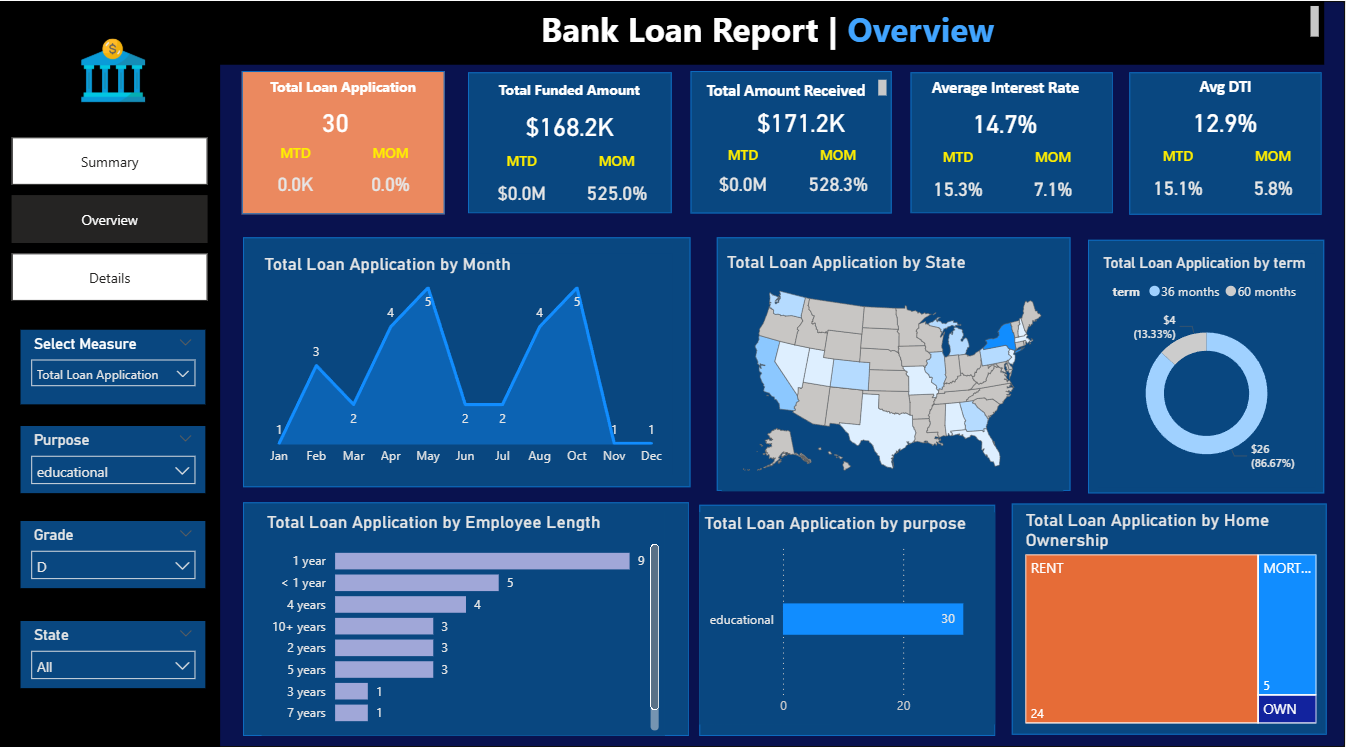

Layout of this report page (visuals, bound fields, positions):
{"tool":"powerbi","page":{"name":"Overview","canvas":[1300,720],"ordinal":1},"visuals":[{"type":"card","fields":{"Values":["bank_loan_data.Average DTI"]},"box":[1103.3,94.1,160.5,45.8],"z":0,"group":"g5"},{"type":"card","fields":{"Values":["bank_loan_data.Avg Interest Rate"]},"box":[891,95.3,160.5,45.8],"z":0,"group":"g4"},{"type":"card","fields":{"Values":["bank_loan_data.Total Funded Amount"]},"box":[471.5,97,160.5,49.1],"z":0,"group":"g2"},{"type":"card","fields":{"Values":["bank_loan_data.Total Amount Received"]},"box":[694.5,97.1,160.3,42.1],"z":0,"group":"g3"},{"type":"card","fields":{"Values":["bank_loan_data.Total Loan Application"]},"box":[242.1,98.7,166.5,37.4],"z":0,"group":"g1"},{"type":"shape","box":[236.5,228,431.9,241.3],"z":0},{"type":"shape","box":[0,0,1280,61.5],"z":1000},{"type":"card","title":"MTD","fields":{"Values":["bank_loan_data.MTD Loan Application"]},"box":[241,137.3,91.7,61.5],"z":1000,"group":"g1"},{"type":"card","title":"MTD","fields":{"Values":["bank_loan_data.MTD Total Amount Received"]},"box":[673.2,138.6,91.7,60.3],"z":1000,"group":"g3"},{"type":"card","title":"MTD","fields":{"Values":["bank_loan_data.MTD Average DTI"]},"box":[1093,140.2,91.7,64.9],"z":1000,"group":"g5"},{"type":"card","title":"MTD","fields":{"Values":["bank_loan_data.MTD Avg Int Rate"]},"box":[880.7,141.4,91.7,64.9],"z":1000,"group":"g4"},{"type":"card","title":"MTD","fields":{"Values":["bank_loan_data.MTD Funded Application"]},"box":[459.6,145.1,91.7,66.1],"z":1000,"group":"g2"},{"type":"shape","box":[235,67.3,195.8,138.3],"z":2000},{"type":"textbox","box":[1087,67.6,195.4,29.3],"z":2000,"group":"g5"},{"type":"textbox","box":[235,68.5,195.4,27.7],"z":2000,"group":"g1"},{"type":"textbox","box":[874.7,68.8,195.4,29.3],"z":2000,"group":"g4"},{"type":"textbox","box":[453.6,71.2,195.4,29.8],"z":2000,"group":"g2"},{"type":"textbox","box":[667.2,71.2,195.4,27.2],"z":2000,"group":"g3"},{"type":"shape","box":[0,0,214.7,720.2],"z":3000},{"type":"card","title":"MOM","fields":{"Values":["bank_loan_data.MOM Loan Applications"]},"box":[332.7,137.3,91.7,61.5],"z":3000,"group":"g1"},{"type":"card","title":"MOM","fields":{"Values":["bank_loan_data.MOM Total Amount Received"]},"box":[764.9,138.6,91.7,60.3],"z":3000,"group":"g3"},{"type":"card","title":"MOM","fields":{"Values":["bank_loan_data.MOM Average DTI"]},"box":[1184.7,140.2,91.7,64.9],"z":3000,"group":"g5"},{"type":"card","title":"MOM","fields":{"Values":["bank_loan_data.MOM Avg Int Rate"]},"box":[972.4,141.4,91.7,64.9],"z":3000,"group":"g4"},{"type":"card","title":"MOM","fields":{"Values":["bank_loan_data.MOM Total Funded Amount"]},"box":[551.3,145.1,91.7,66.1],"z":3000,"group":"g2"},{"type":"textbox","box":[214.7,0,1065.3,51.9],"z":4000},{"type":"group","id":"g1","title":"Group 1","box":[235,68.5,195.8,131],"z":5000},{"type":"shape","box":[453.6,68.8,196.6,136.3],"z":6000},{"type":"group","id":"g2","title":"Group 1","box":[453.6,71.2,196.6,138.7],"z":7000},{"type":"shape","box":[668.4,67.6,194.2,137.5],"z":8000},{"type":"group","id":"g3","title":"Group 1","box":[667.2,71.2,195.4,126.7],"z":9000},{"type":"shape","box":[880.7,68.8,195.4,136.3],"z":10000},{"type":"group","id":"g4","title":"Group 1","box":[874.7,68.8,195.4,136.3],"z":11000},{"type":"shape","box":[1091.8,68.8,185.8,137.5],"z":12000},{"type":"group","id":"g5","title":"Group 1","box":[1087,67.6,195.4,136.3],"z":13000},{"type":"shape","box":[236.5,483.8,430.7,225.6],"z":14000},{"type":"slicer","fields":{"Values":["bank_loan_data.grade"]},"box":[22,501.8,178.7,64.9],"z":16000},{"type":"slicer","fields":{"Values":["bank_loan_data.address_state"]},"box":[22,598.5,178.7,64.9],"z":17000},{"type":"slicer","fields":{"Values":["bank_loan_data.purpose"]},"box":[21.7,410.2,178.6,65.1],"z":18000},{"type":"image","box":[72.4,31.4,77.2,71.2],"z":19000},{"type":"areaChart","fields":{"Y":["bank_loan_data.Total Loan Application"],"Category":["DateTable.Month"]},"box":[252.1,243.7,398.1,213.5],"z":23000},{"type":"slicer","fields":{"Values":["Select Measure.Select Measure"]},"box":[21.7,317.3,178.6,72.4],"z":24000},{"type":"shape","box":[693.7,228,341.4,244.9],"z":25000},{"type":"shapeMap","fields":{"Category":["bank_loan_data.address_state"],"Value":["bank_loan_data.Total Loan Application"]},"box":[698.5,241.3,329.4,231.6],"z":25001},{"type":"shape","box":[1052,230.4,228,244.9],"z":25002},{"type":"donutChart","fields":{"Category":["bank_loan_data.term"],"Y":["bank_loan_data.Total Loan Application"]},"box":[1061.7,243.7,209.9,225.6],"z":25003},{"type":"barChart","fields":{"Category":["bank_loan_data.emp_length"],"Y":["bank_loan_data.Total Loan Application"]},"box":[254.6,492.2,388.5,217.2],"z":25004},{"type":"shape","box":[676.8,486.2,285.9,223.2],"z":25005},{"type":"barChart","fields":{"Category":["bank_loan_data.purpose"],"Y":["bank_loan_data.Total Loan Application"]},"box":[676.8,493.4,285.9,205.1],"z":25006},{"type":"shape","box":[978.4,485,304,223.2],"z":25007},{"type":"treemap","fields":{"Group":["bank_loan_data.home_ownership"],"Values":["bank_loan_data.Total Loan Application"]},"box":[986.9,491,290.8,211.1],"z":25008},{"type":"pageNavigator","box":[13.3,131.5,189.4,158],"z":25009}]}

Visuals, with their boxes in screenshot pixels (x1, y1, x2, y2), scaled from the page's 1300x720 canvas onto the 1346x747 screenshot:
card - bank_loan_data.Average DTI: 1142,98,1309,145
card - bank_loan_data.Avg Interest Rate: 923,99,1089,146
card - bank_loan_data.Total Funded Amount: 488,101,654,152
card - bank_loan_data.Total Amount Received: 719,101,885,144
card - bank_loan_data.Total Loan Application: 251,102,423,141
shape: 245,237,692,487
shape: 0,0,1325,64
"MTD" card: 250,142,344,206
"MTD" card: 697,144,792,206
"MTD" card: 1132,145,1227,213
"MTD" card: 912,147,1007,214
"MTD" card: 476,151,571,219
shape: 243,70,446,213
textbox: 1125,70,1328,101
textbox: 243,71,446,100
textbox: 906,71,1108,102
textbox: 470,74,672,105
textbox: 691,74,893,102
shape: 0,0,222,746
"MOM" card: 344,142,439,206
"MOM" card: 792,144,887,206
"MOM" card: 1227,145,1322,213
"MOM" card: 1007,147,1102,214
"MOM" card: 571,151,666,219
textbox: 222,0,1325,54
"Group 1" group: 243,71,446,207
shape: 470,71,673,213
"Group 1" group: 470,74,673,218
shape: 692,70,893,213
"Group 1" group: 691,74,893,205
shape: 912,71,1114,213
"Group 1" group: 906,71,1108,213
shape: 1130,71,1323,214
"Group 1" group: 1125,70,1328,212
shape: 245,502,691,736
slicer - bank_loan_data.grade: 23,521,208,588
slicer - bank_loan_data.address_state: 23,621,208,688
slicer - bank_loan_data.purpose: 22,426,207,493
image: 75,33,155,106
areaChart - bank_loan_data.Total Loan Application x DateTable.Month: 261,253,673,474
slicer - Select Measure.Select Measure: 22,329,207,404
shape: 718,237,1072,491
shapeMap - bank_loan_data.address_state x bank_loan_data.Total Loan Application: 723,250,1064,491
shape: 1089,239,1325,493
donutChart - bank_loan_data.term x bank_loan_data.Total Loan Application: 1099,253,1317,487
barChart - bank_loan_data.emp_length x bank_loan_data.Total Loan Application: 264,511,666,736
shape: 701,504,997,736
barChart - bank_loan_data.purpose x bank_loan_data.Total Loan Application: 701,512,997,725
shape: 1013,503,1328,735
treemap - bank_loan_data.home_ownership x bank_loan_data.Total Loan Application: 1022,509,1323,728
pageNavigator: 14,136,210,300
